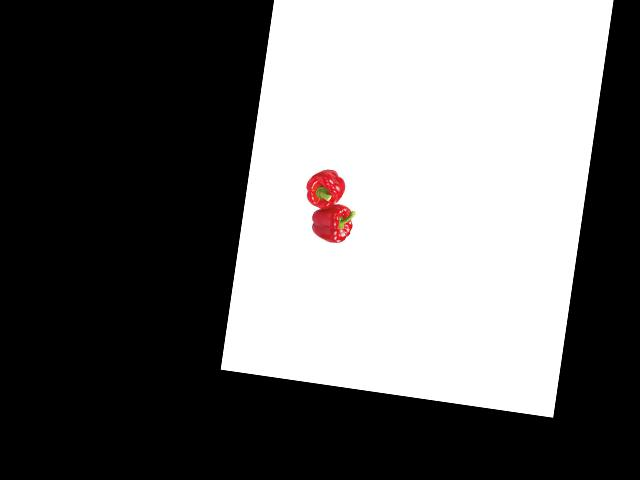bell_pepper: (305, 199, 358, 246)
